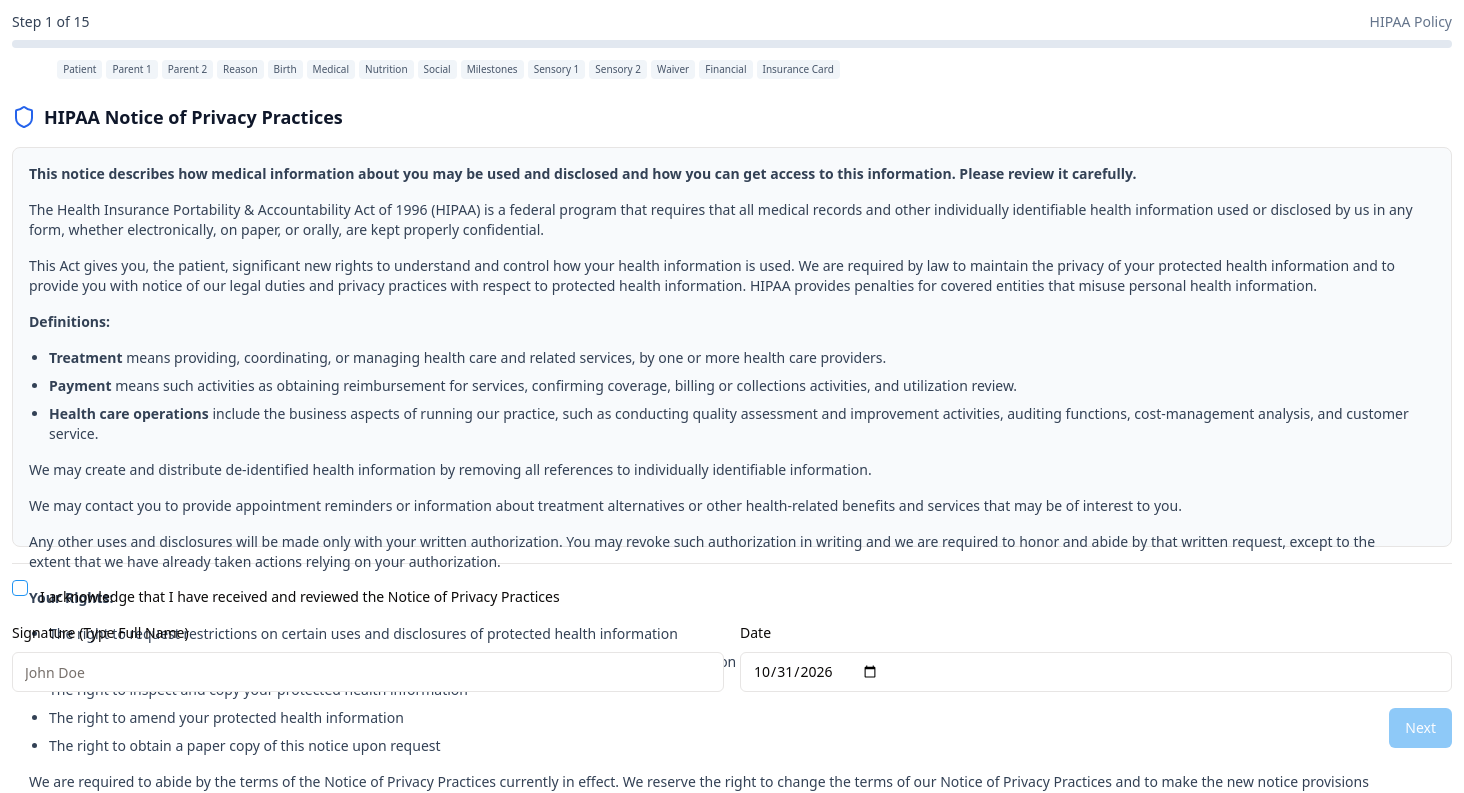
Test: PatientIntakeForm › navigates to step 2 when HIPAA consent is given and Next is clicked
Click the checkbox at (20, 588), box [12,580,28,596]
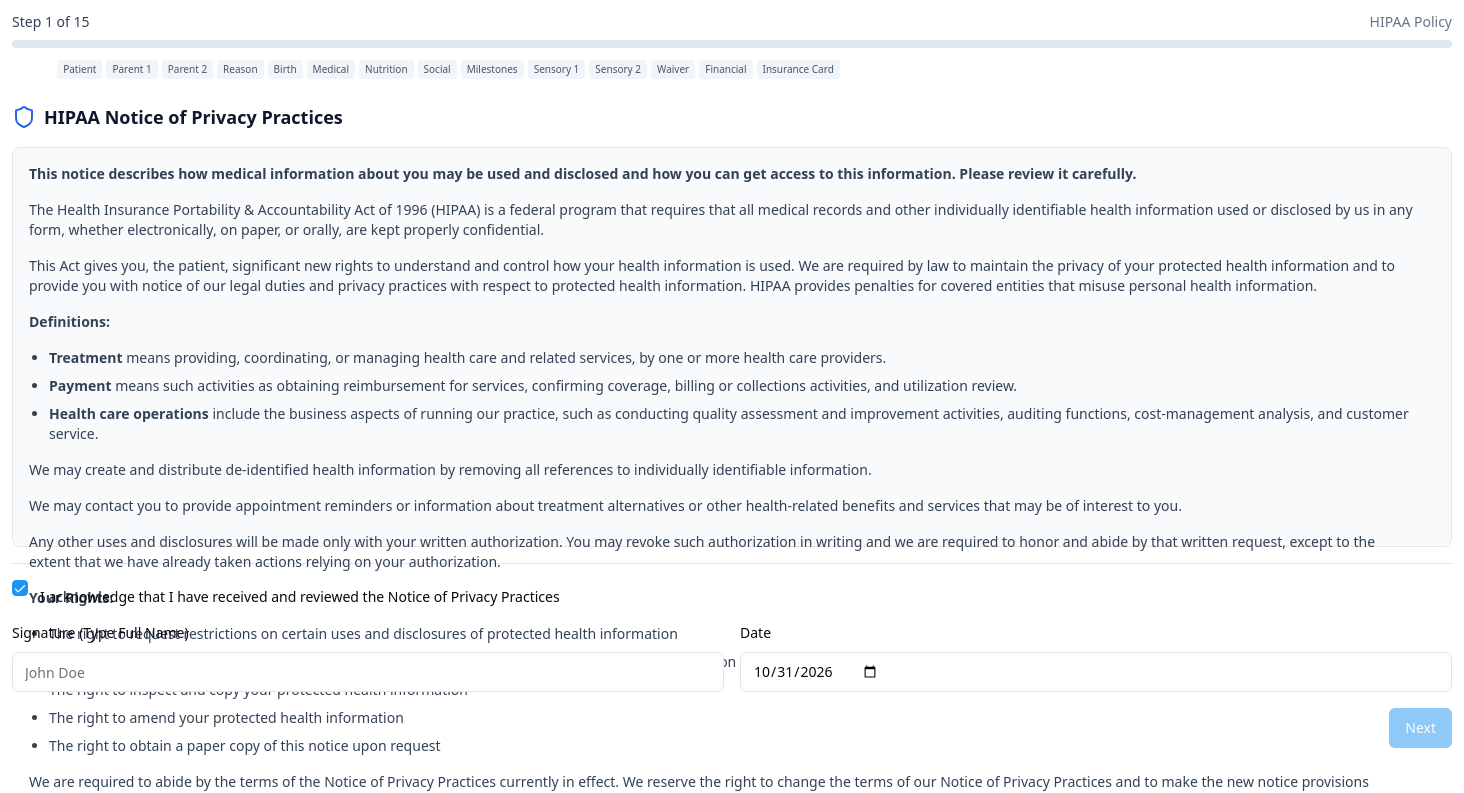
Type "Jane Smith" into the field with placeholder "John Doe" at (368, 672), box [12,652,724,692]
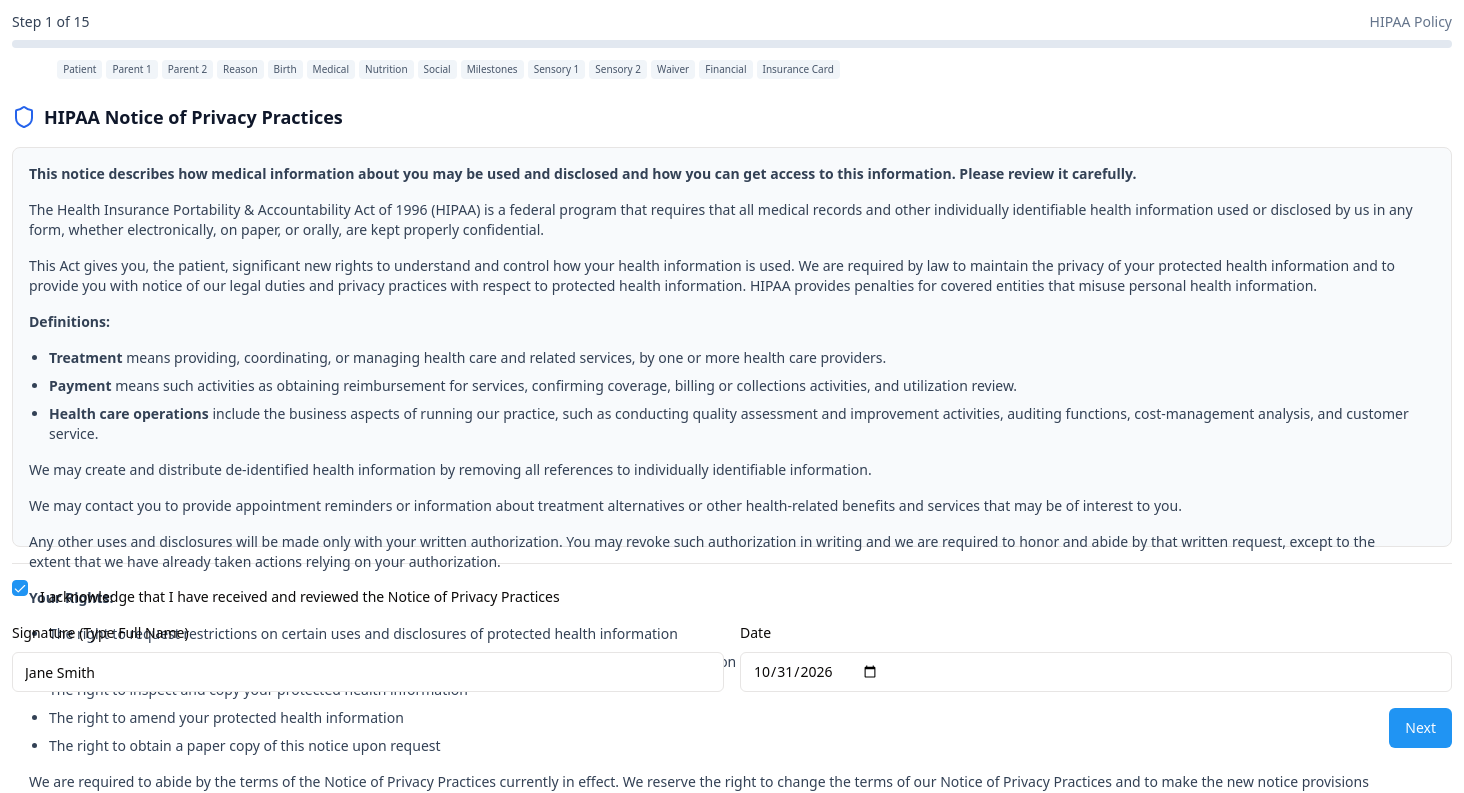
Click the button "Next" at (1421, 728), box [1389,708,1452,748]
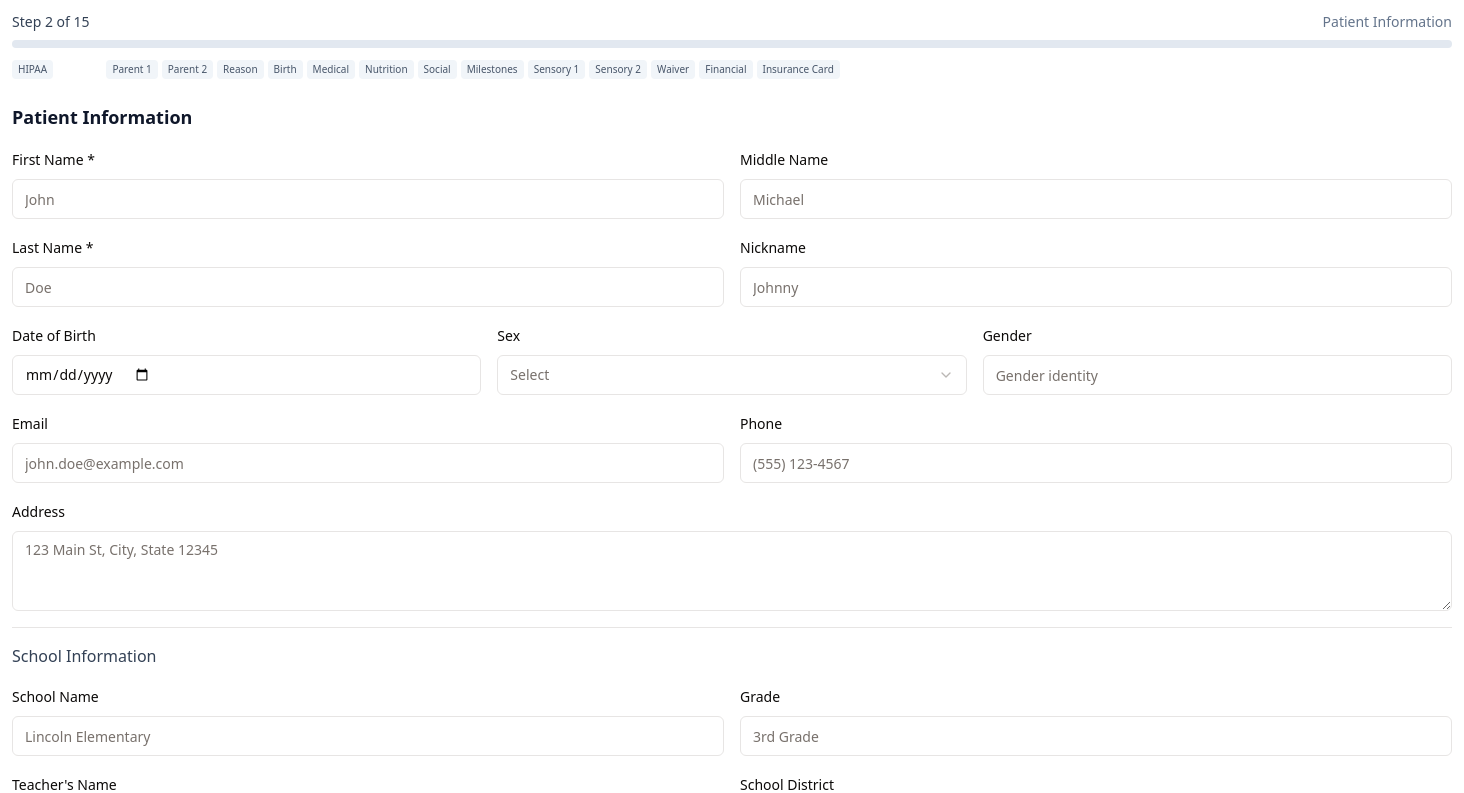
Check: the text "Patient Information" is shown, box [1323,12,1452,32]
Check: the text "Step 2 of 15" is shown, box [12,12,90,32]
